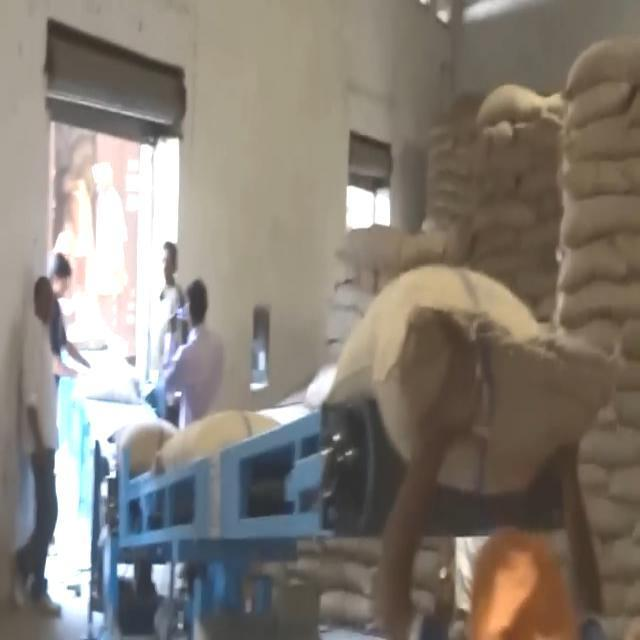gunny_bag: (317, 263, 622, 497), (160, 415, 278, 477)
